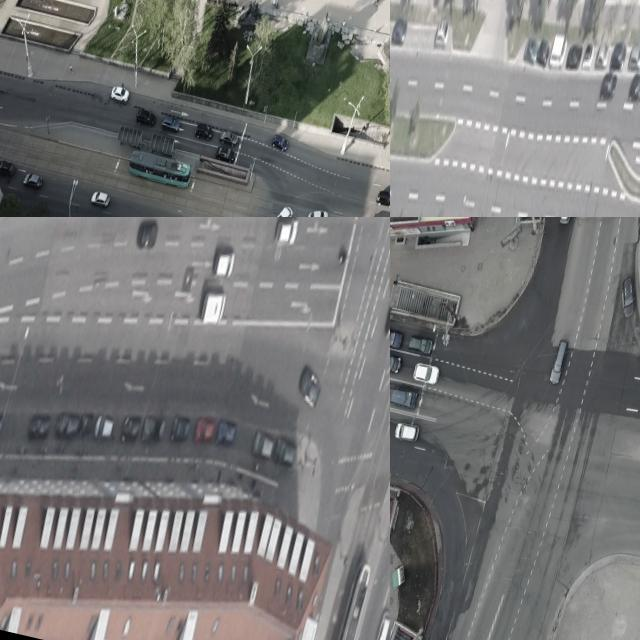UAI: (294, 364, 325, 410), (612, 273, 640, 321), (546, 337, 571, 387), (140, 411, 168, 446), (410, 359, 442, 389), (27, 408, 53, 442), (54, 410, 81, 441), (212, 247, 237, 280), (271, 437, 297, 468), (135, 217, 160, 249), (274, 217, 300, 247), (406, 332, 436, 358), (390, 383, 420, 409), (169, 412, 193, 444), (120, 413, 143, 446), (548, 33, 569, 69), (598, 69, 620, 103), (251, 430, 276, 459), (193, 416, 217, 446), (393, 419, 421, 444), (215, 418, 238, 448), (381, 267, 390, 340), (370, 609, 390, 640), (93, 414, 115, 441), (609, 40, 628, 71), (77, 409, 96, 440), (565, 42, 584, 71), (434, 19, 452, 49), (391, 17, 409, 46), (522, 36, 540, 64), (134, 107, 157, 128), (536, 37, 552, 66), (215, 144, 238, 163), (627, 40, 640, 73), (627, 72, 640, 103), (160, 114, 181, 133), (193, 123, 214, 142), (90, 189, 111, 208), (22, 171, 43, 190), (595, 43, 610, 69), (270, 133, 290, 152), (109, 85, 130, 103), (581, 41, 595, 68), (218, 130, 239, 147), (390, 350, 403, 375), (374, 189, 390, 208), (0, 158, 15, 178), (556, 217, 578, 227)
car: (126, 150, 193, 189)
harvester: (198, 287, 228, 327), (264, 202, 293, 217)
